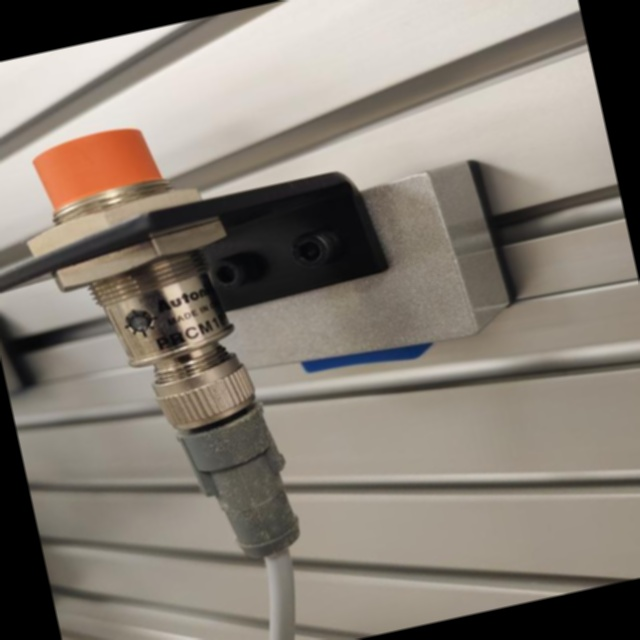inductive sensor: (0, 48, 567, 615)
